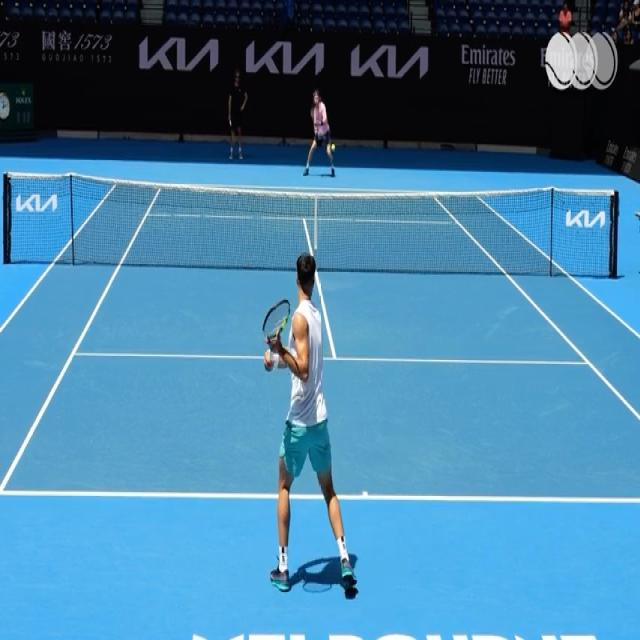forehand-finish: (251, 252, 364, 599)
